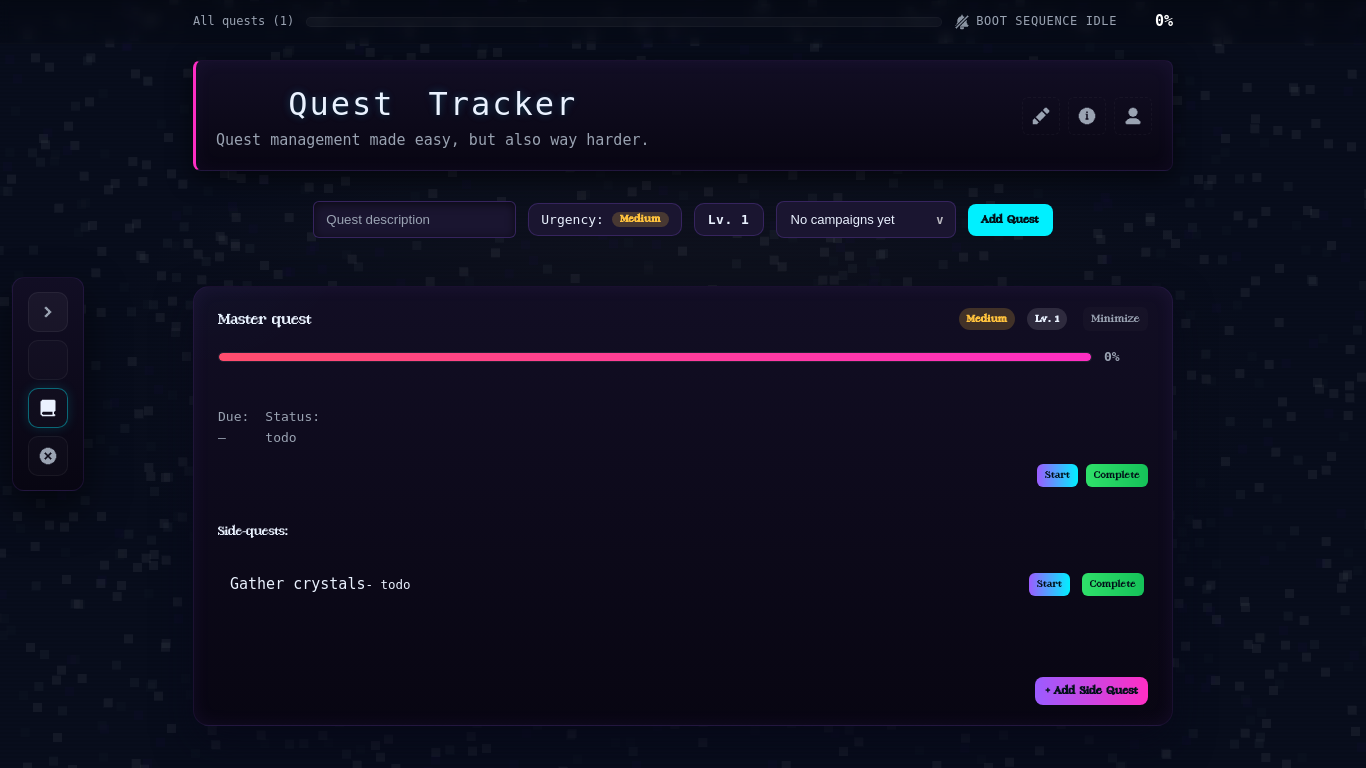
Test: add side quest button works even when quest already has side quests
The image size is (1366, 768).
Expected: the heading "Master quest" is shown, x1=218 y1=312 x2=311 y2=326
Expected: the button "Master quest" is shown, x1=193 y1=286 x2=1173 y2=726
Click the button "+ Add Side Quest" at (1091, 691), box x1=1035 y1=677 x2=1148 y2=705
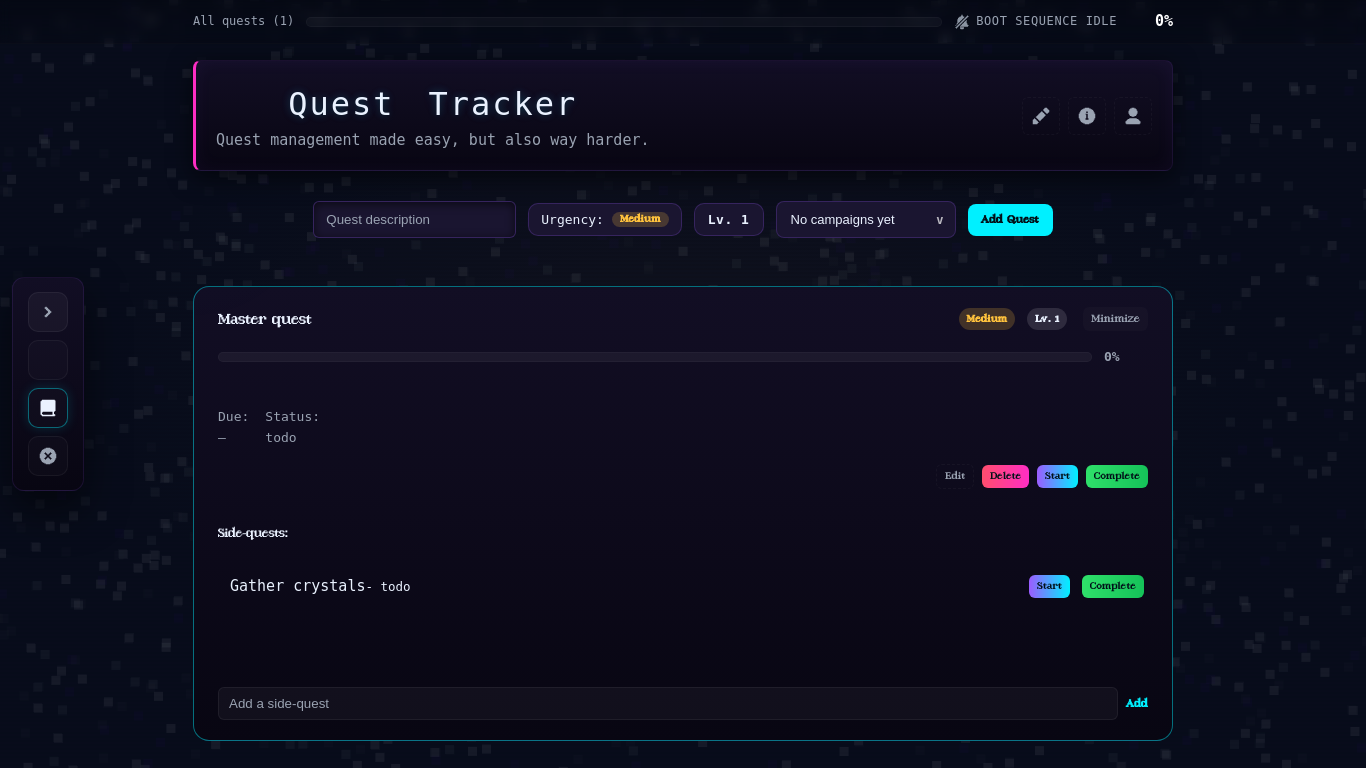
Result: the field with placeholder "Add a side-quest" is shown at x1=218 y1=687 x2=1118 y2=720
